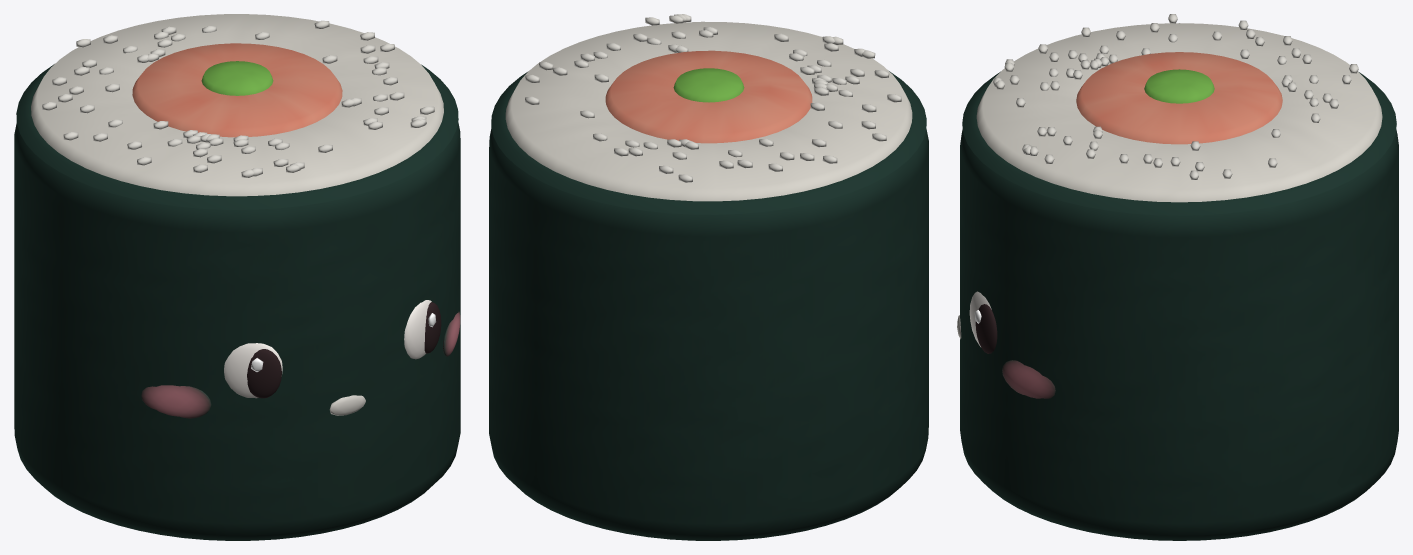
File: folk_maki.glb
3 renders of one model, left to right at view 1: azimuth 30°, elevation 25°; view 2: azimuth 150°, elevation 25°; view 3: azimuth 270°, elevation 25°, orthographic.
Visible parts, largest first — view 1: maki_body, maki_eye_l, maki_eye_r; view 2: maki_body; view 3: maki_body, maki_eye_r.
Boxes of the visible parts, box(x1,y1,x2,y2) form: maki_body: box(14, 14, 460, 540); maki_eye_l: box(224, 343, 282, 398); maki_eye_r: box(404, 300, 441, 359); maki_body: box(489, 14, 928, 540); maki_body: box(957, 14, 1398, 540); maki_eye_r: box(969, 291, 997, 353).
Size of the model in its own units: 0.8901 by 0.9149 by 0.8963.
